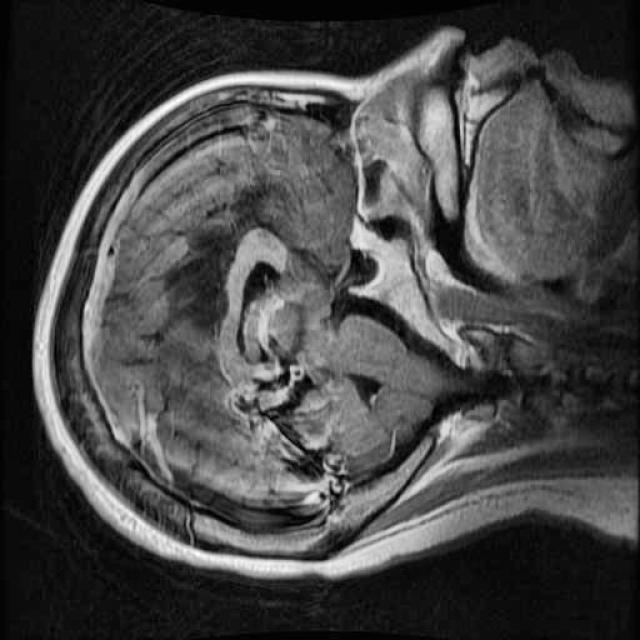Tumor: (143, 164, 291, 352)
